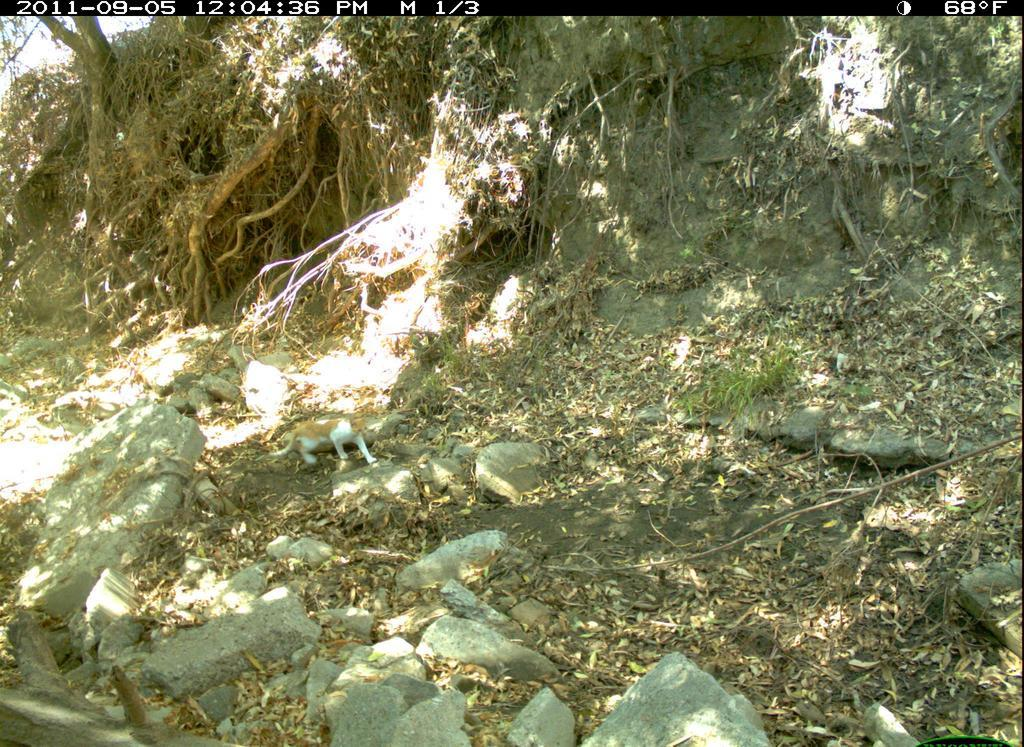cat: (265, 406, 381, 480)
